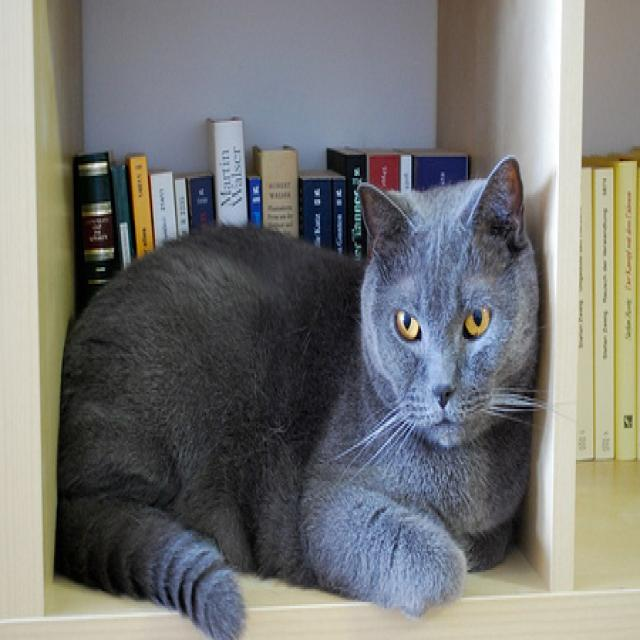British Shorthair: (48, 148, 545, 640)
